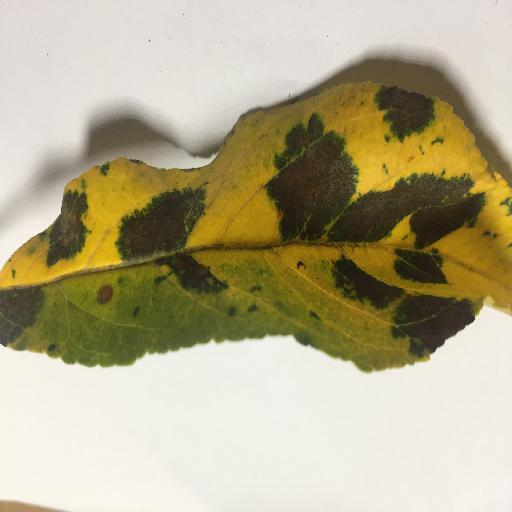Brown_Spot: (350, 174, 492, 239), (277, 137, 346, 230), (118, 199, 194, 251), (51, 193, 89, 262), (375, 90, 430, 132), (1, 290, 42, 335), (98, 282, 123, 303)
